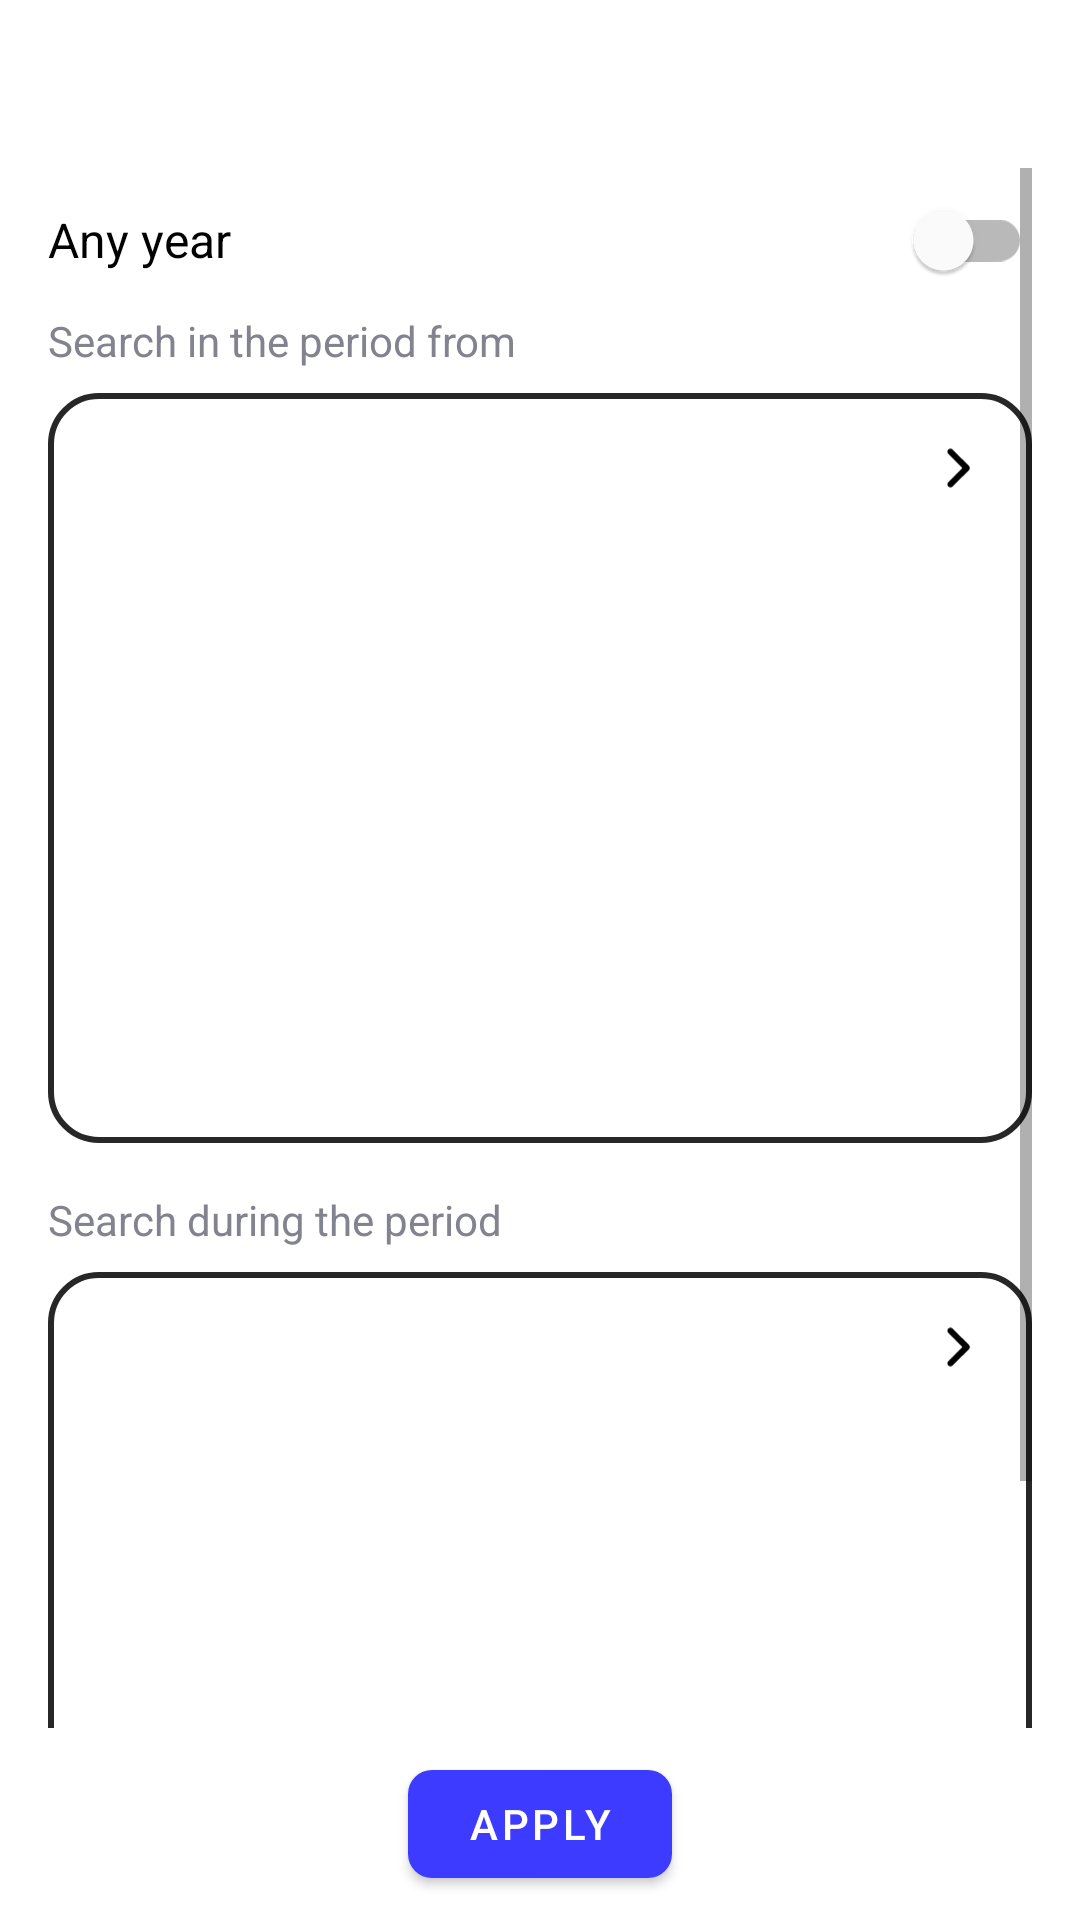

Icon click points for this 1080x1920 phone screenshot, format (x=x, y=y):
strelka right: (x=958, y=468), (x=958, y=1347)
